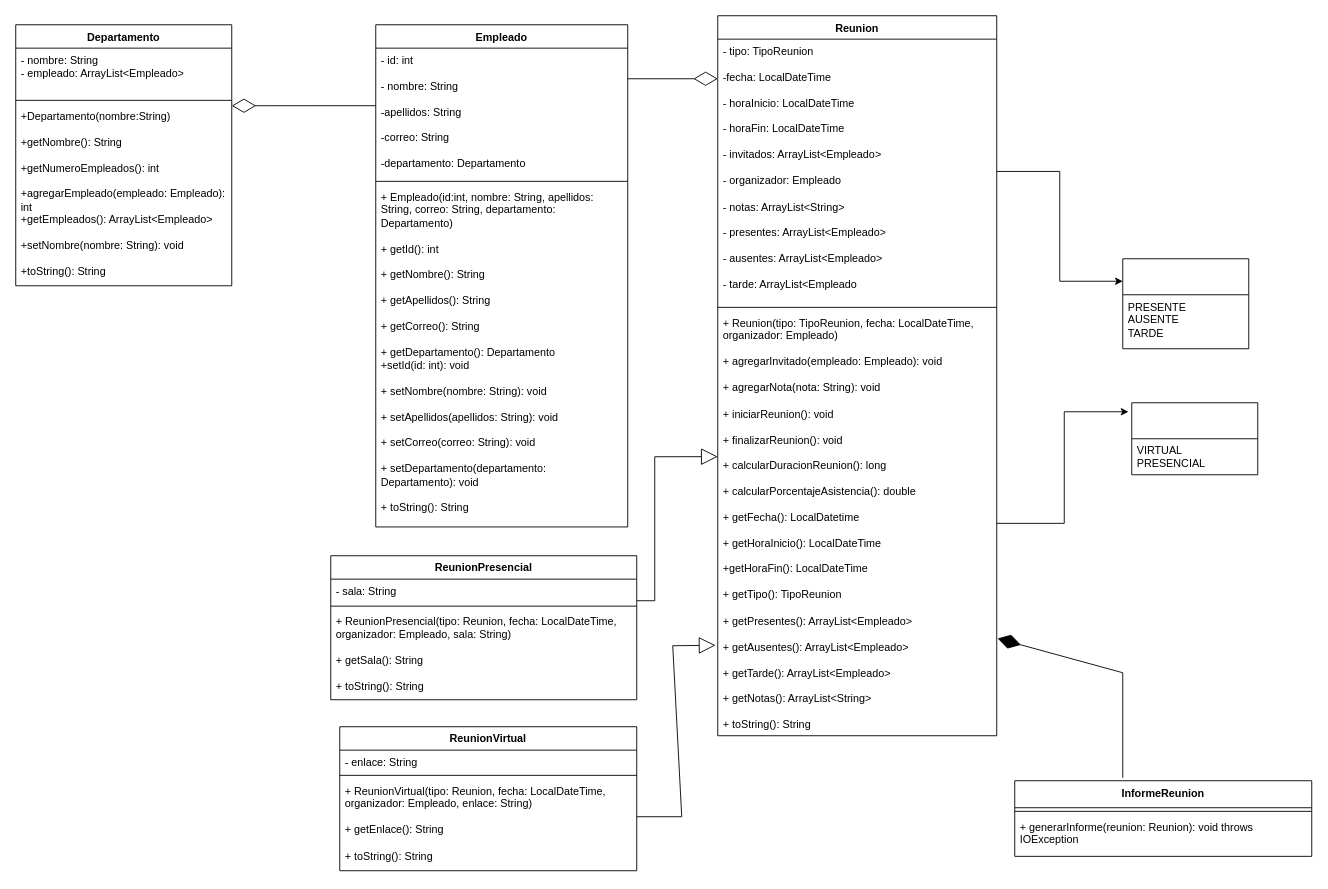
Some shapes in this 1328 by 889 pixel diagram are drawn without their labels. The shapes that lost their labels are listed below. From the top down, each one's box as (x1, y1, x2, y2) in pixels, then its label:
(1122, 258, 1249, 349): <<enumeration>> EstadoAsistencia
(1131, 402, 1258, 475): <<enumeration>> TipoReunion
